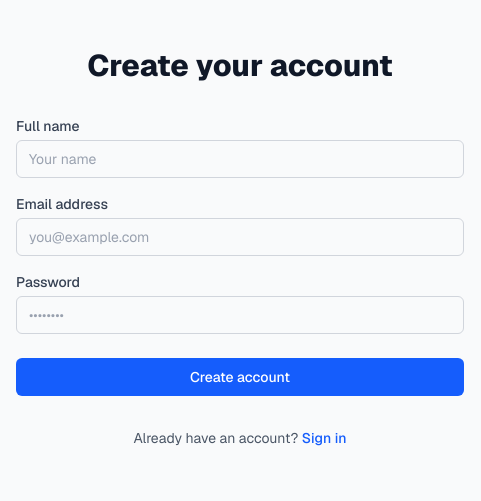
Test: Register Page › User Registration › should display error message on failed registration
In the field with placeholder "you@example.com": (240, 237) 16,218 -> 464,256, type "existing@example.com"
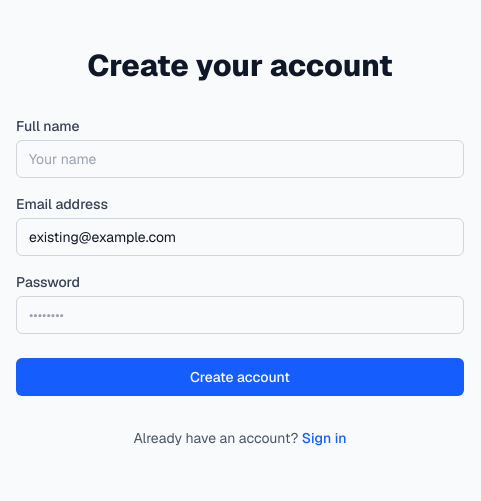
In the field with placeholder "Your name": (240, 159) 16,140 -> 464,178, type "Existing User"
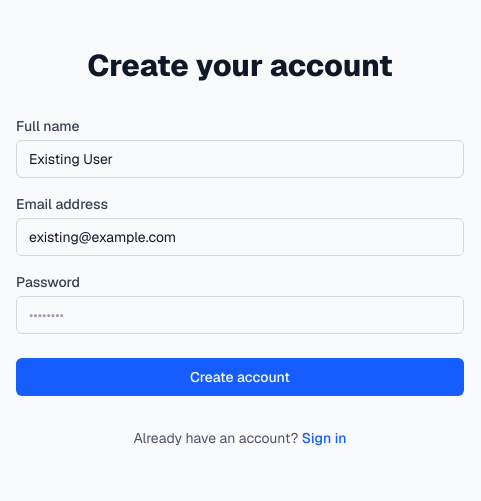
In the password field with placeholder "••••••••": (240, 315) 16,296 -> 464,334, type "password123"
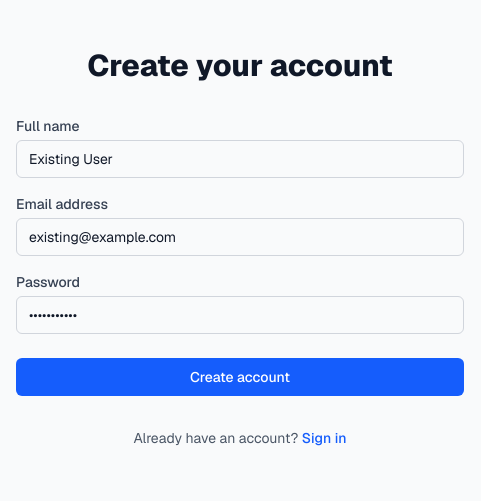
Click the button "Create account": (240, 377) 16,358 -> 464,396
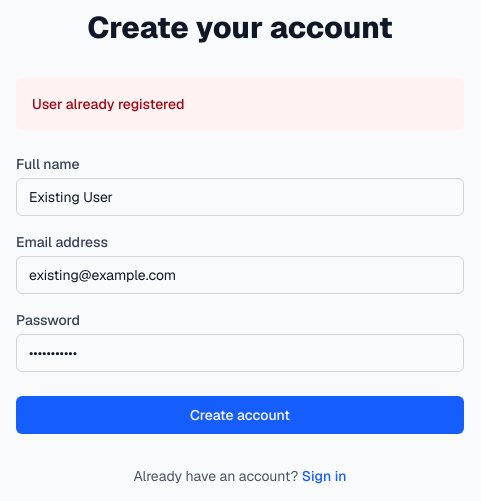
Result: the text "User already registered" is shown at 32,95 -> 184,113
